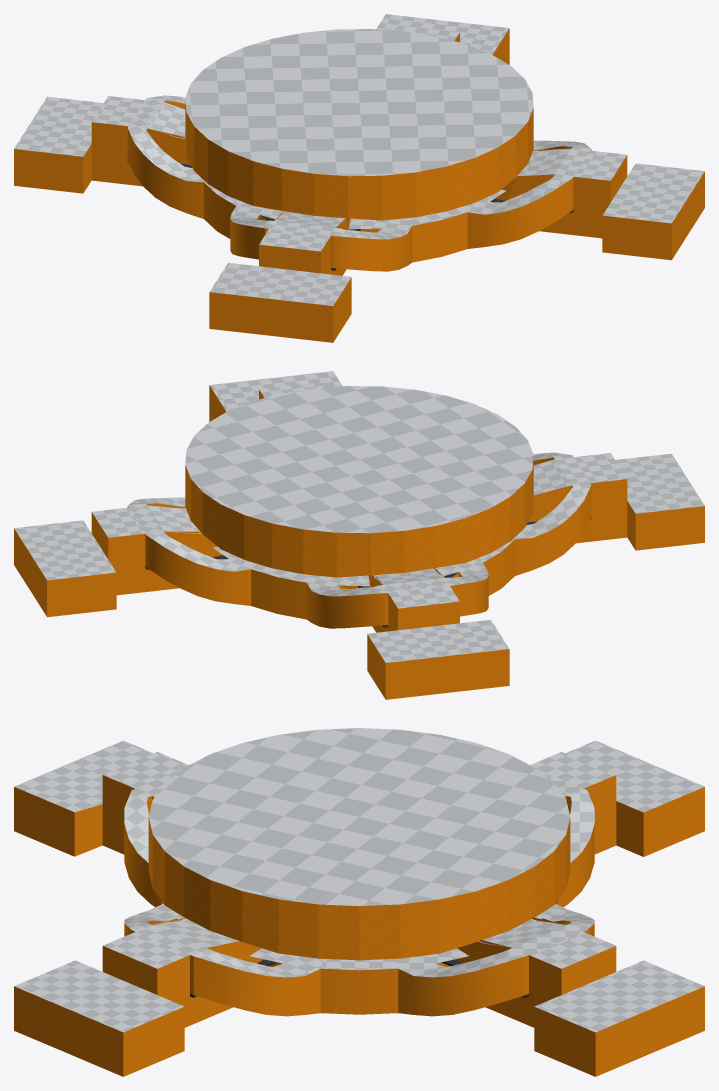
The model's file is default_level.glb.
3 views of the same model, one above another, from view 1: azimuth 30°, elevation 25°; view 2: azimuth 150°, elevation 25°; view 3: azimuth 270°, elevation 25° (orthographic). The views are drawn at different scales.
Parts seen in each view (by area): view 1: Roof-col, Map-col; view 2: Roof-col, Map-col; view 3: Roof-col, Map-col.
Part boxes in pixels (left/top/right/bottom): Roof-col: left=14, top=14, right=704, bottom=305; Map-col: left=14, top=28, right=704, bottom=342; Roof-col: left=14, top=371, right=704, bottom=662; Map-col: left=14, top=385, right=704, bottom=699; Roof-col: left=14, top=728, right=704, bottom=1032; Map-col: left=14, top=775, right=704, bottom=1076.
Bounding box in the file's own units: 113 × 20.49 × 113.
3 materials, 3 textured.
